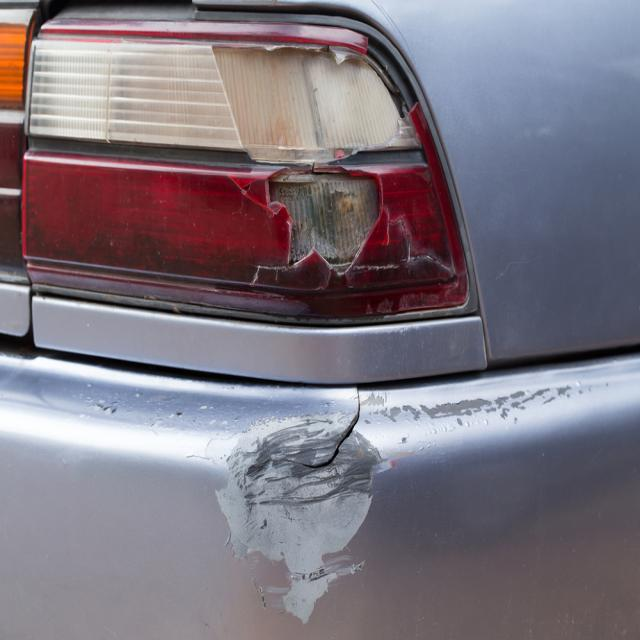Dechirure: (301, 381, 365, 487)
Phare abime: (209, 24, 452, 286)
Rayure: (212, 375, 605, 632)
